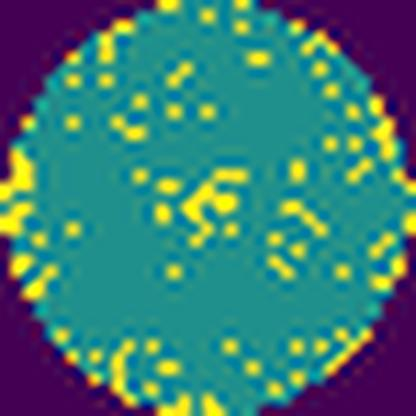Center: (178, 162, 249, 252)
